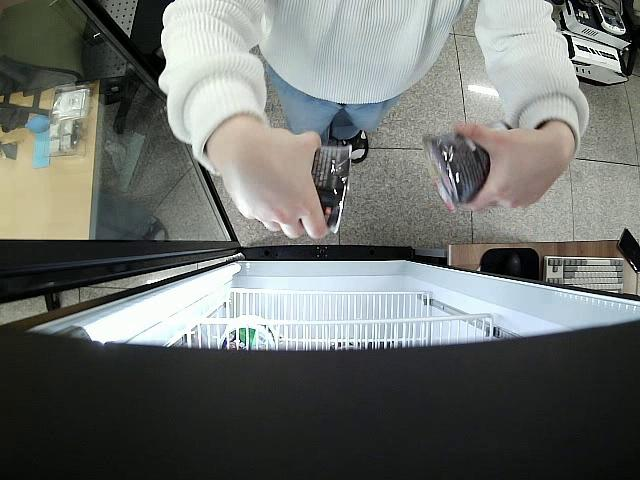00_hand: (215, 125, 330, 241), (453, 121, 561, 212)
08_buldak_S: (422, 120, 513, 213), (310, 145, 353, 232)
